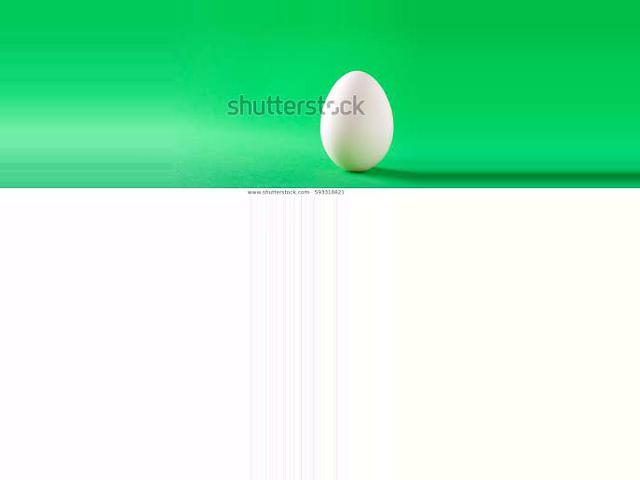egg: (320, 71, 394, 173)
